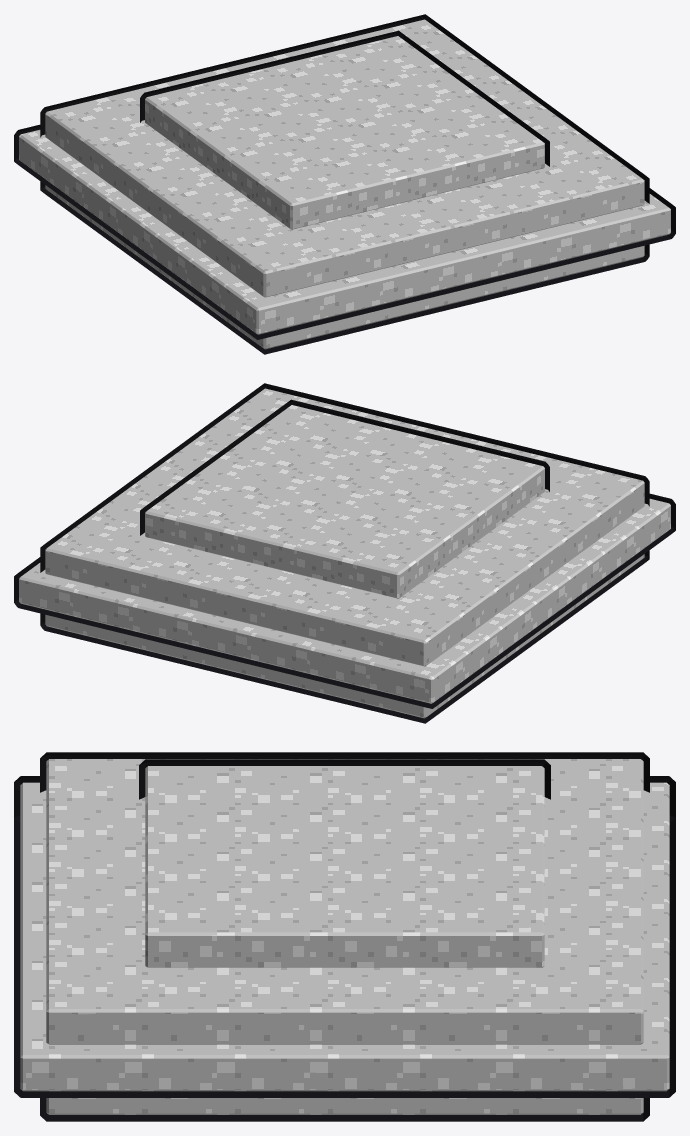
Rendered from env_common_hill_tile.glb.
3 renders of one model, top to bottom at view 1: azimuth 30°, elevation 25°; view 2: azimuth 150°, elevation 25°; view 3: azimuth 270°, elevation 25°, orthographic. The views are drawn at different scales.
Parts seen in each view (by area): view 1: model; view 2: model; view 3: model.
Part boxes in pixels (x1,y1,x2,y2): model: [14, 14, 675, 354]; model: [14, 383, 675, 723]; model: [14, 752, 675, 1121].
Bounding box in the file's own units: 5.5 × 1.72 × 5.5.
Materials: 2 (1 with a texture image).
